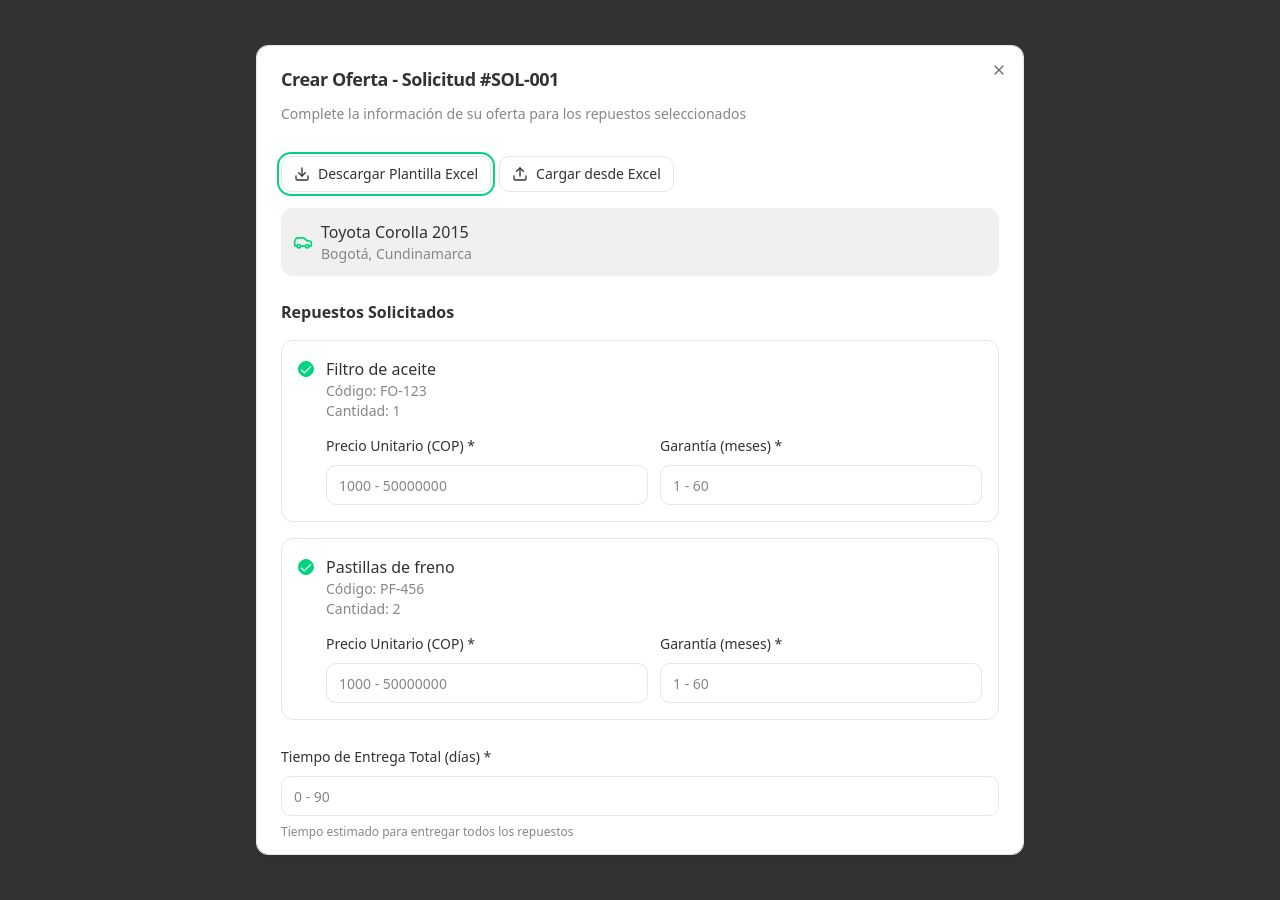
it: OfertaIndividualModal › validates precio range (1000-50000000)
The image size is (1280, 900).
Type "500" into the number field with placeholder "1000 - 50000000" below "FO-123".
click(487, 485); type("500")  # box 326,465 -> 648,505
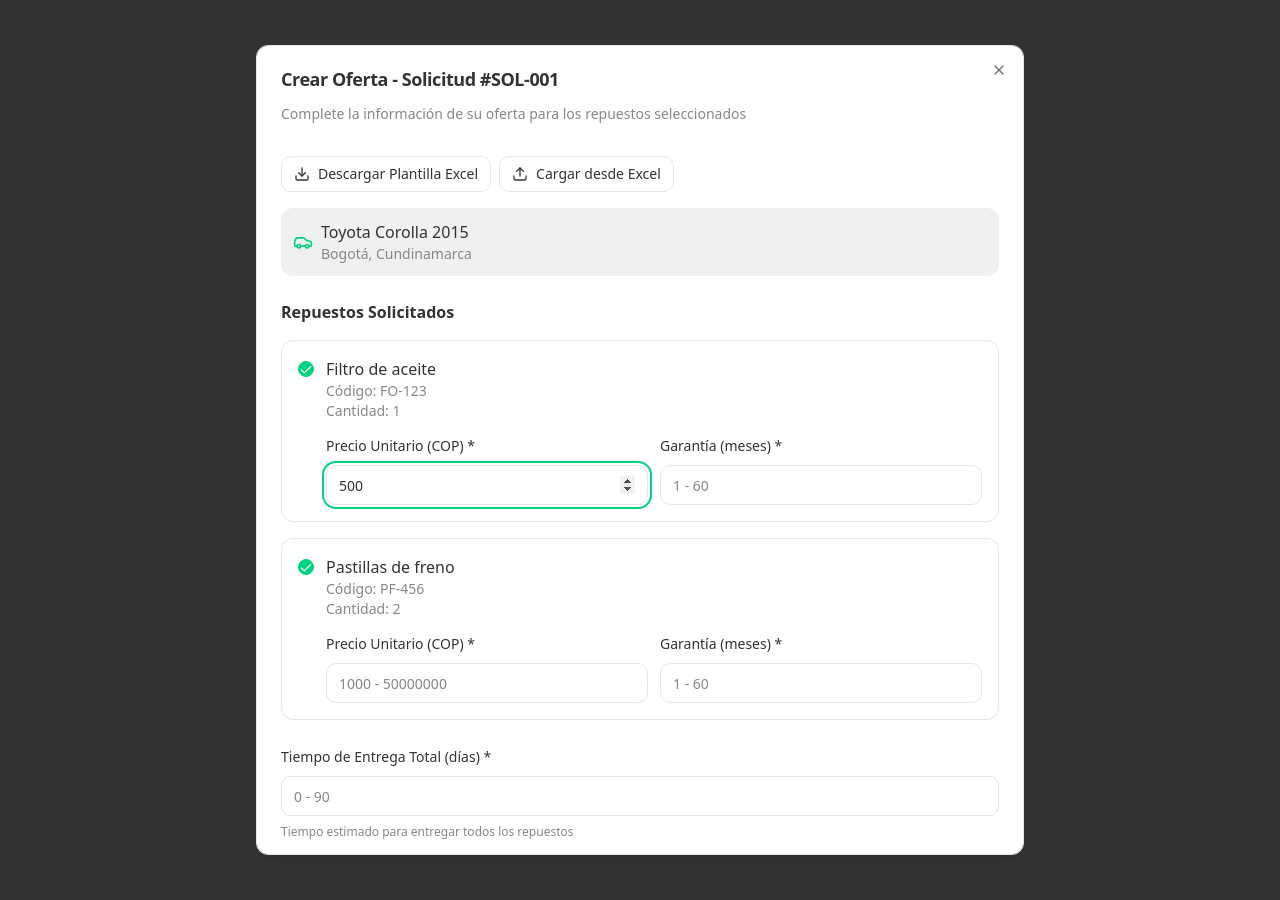
Type "5" into the number field with placeholder "0 - 90".
click(640, 796); type("5")  # box 281,776 -> 999,816
(page scrolled)
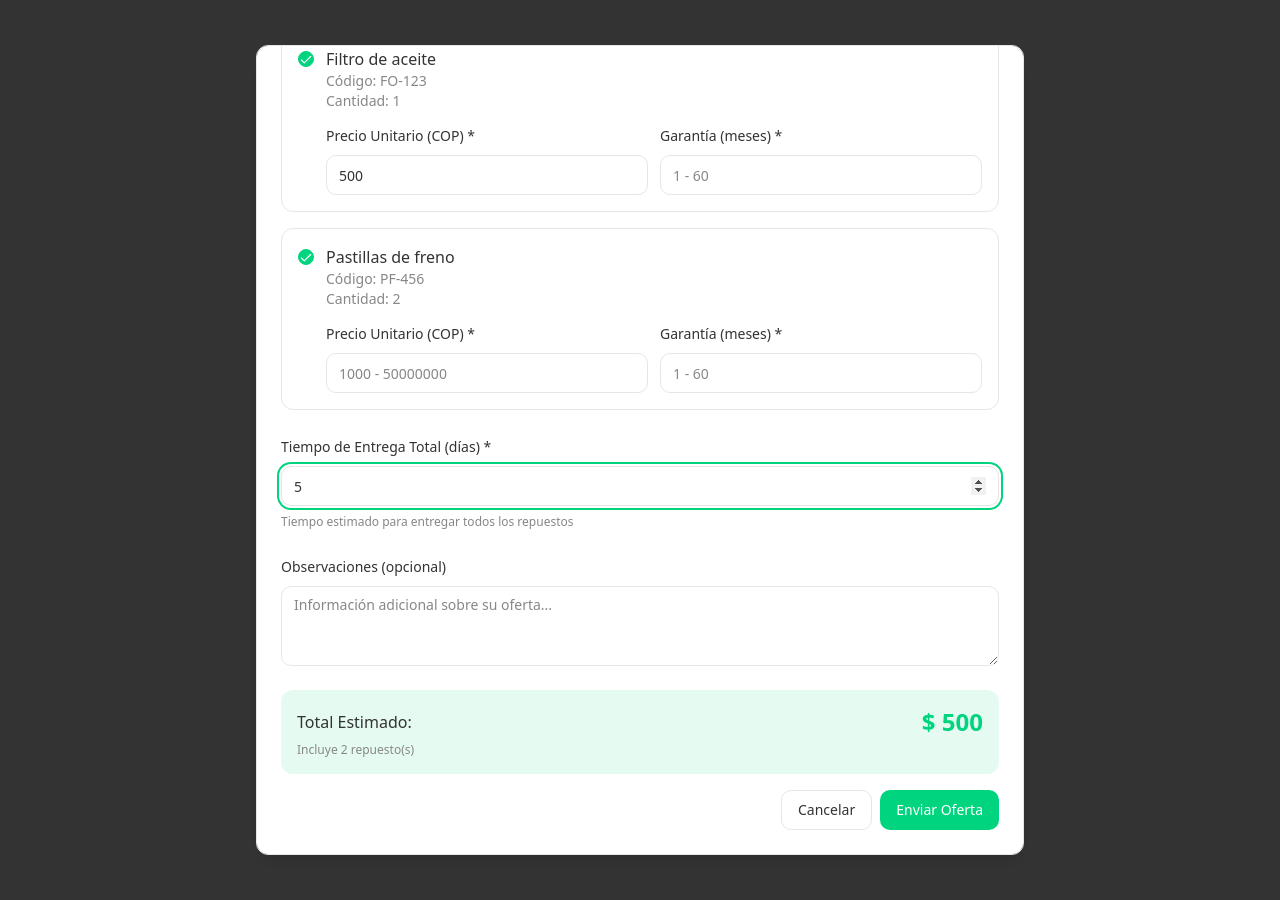
Click the button "Enviar Oferta".
click(940, 810)  # box 880,790 -> 999,830
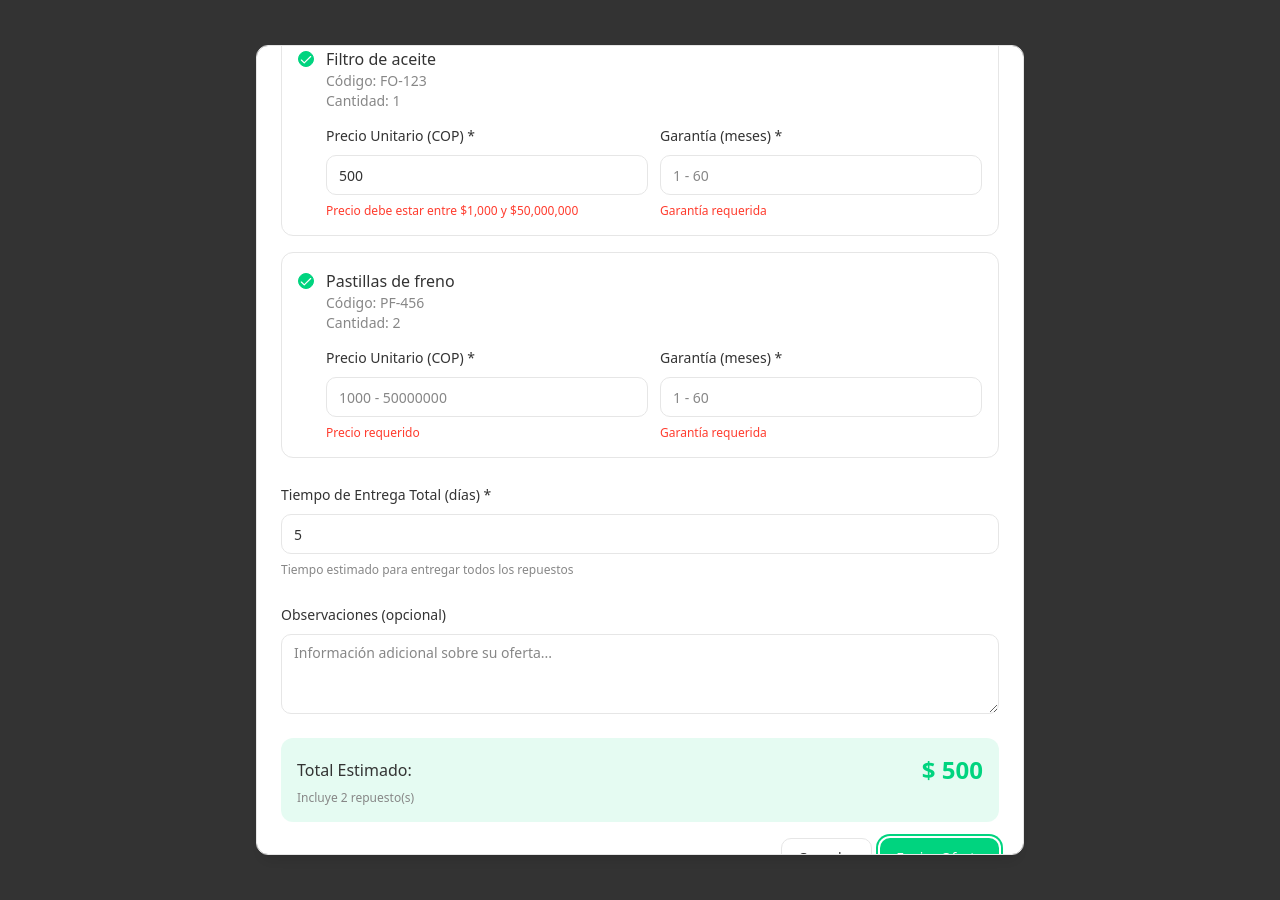
Now the text "Precio debe estar entre $1,000 y $50,000,000" is shown, box 326,202 -> 578,219
